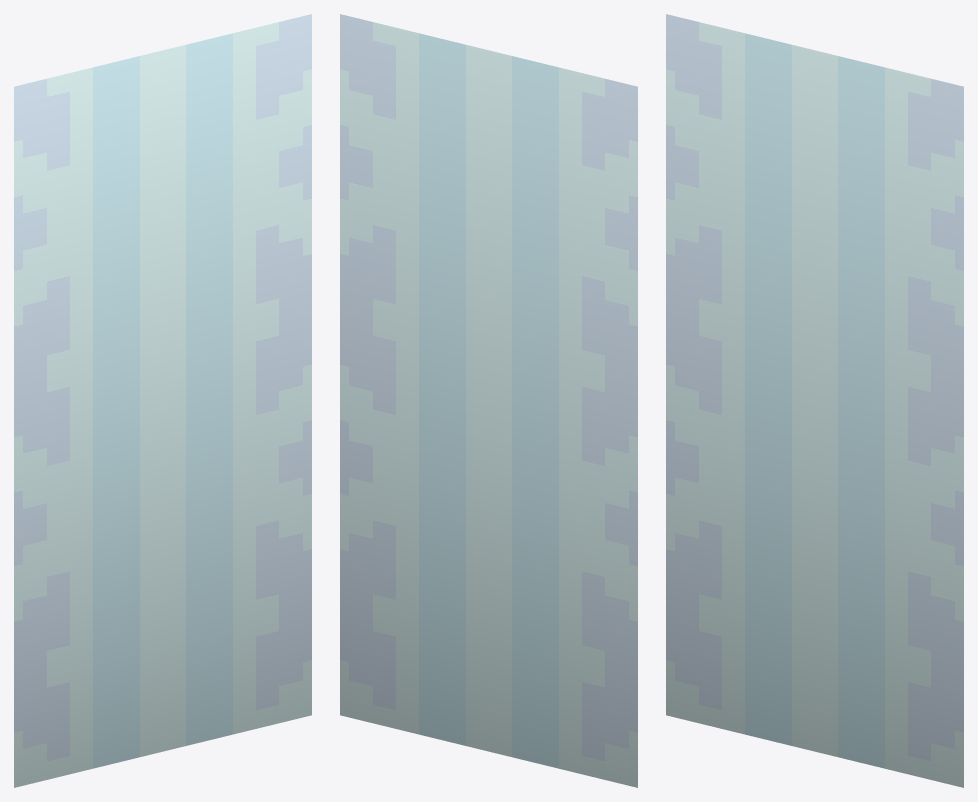
The picture shows the model from 3 angles, left to right: view 1: azimuth 30°, elevation 25°; view 2: azimuth 150°, elevation 25°; view 3: azimuth 330°, elevation 25°; orthographic projection.
Bounding box in the file's own units: 1 × 2.25 × 0.
Materials: 1 (1 with a texture image).
